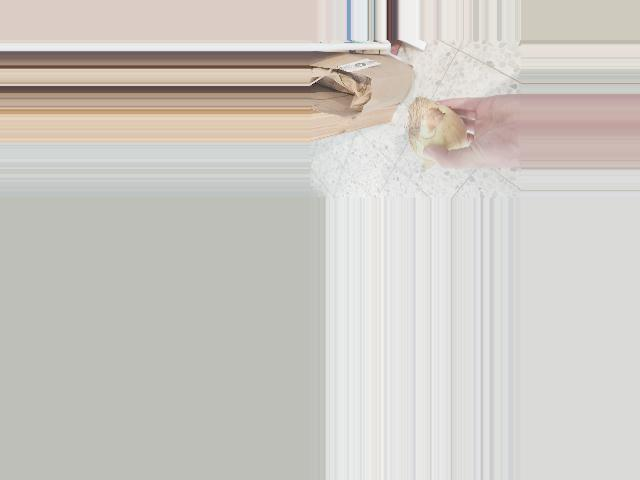onion: (401, 96, 471, 165)
